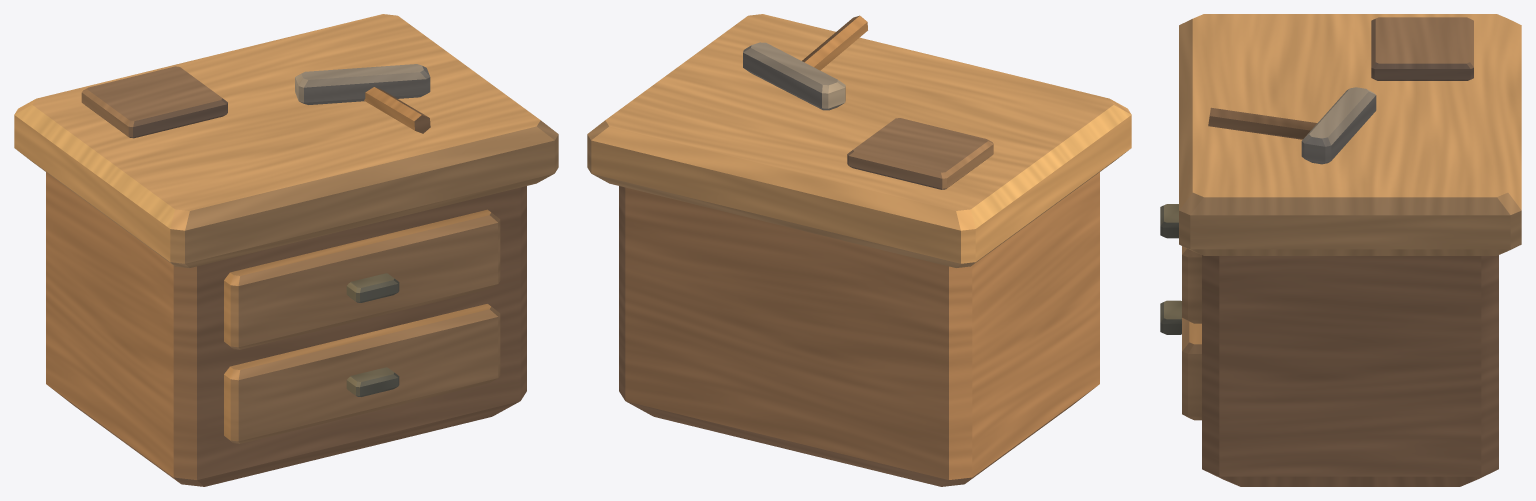
File: furniture_bench.glb
3 views of the same model, side by side, from view 1: azimuth 30°, elevation 25°; view 2: azimuth 150°, elevation 25°; view 3: azimuth 270°, elevation 25° (orthographic). The views are drawn at different scales.
Parts seen in each view (by area): view 1: Werkbank mit Schubladen und Werkzeug; view 2: Werkbank mit Schubladen und Werkzeug; view 3: Werkbank mit Schubladen und Werkzeug.
Part boxes in pixels (box(x1,y1,x2,y2)): Werkbank mit Schubladen und Werkzeug: box(14, 14, 558, 486); Werkbank mit Schubladen und Werkzeug: box(587, 14, 1131, 486); Werkbank mit Schubladen und Werkzeug: box(1160, 14, 1521, 486).
Size of the model in its own units: 1.21 by 0.9668 by 0.9495.
2 materials, 2 textured.
